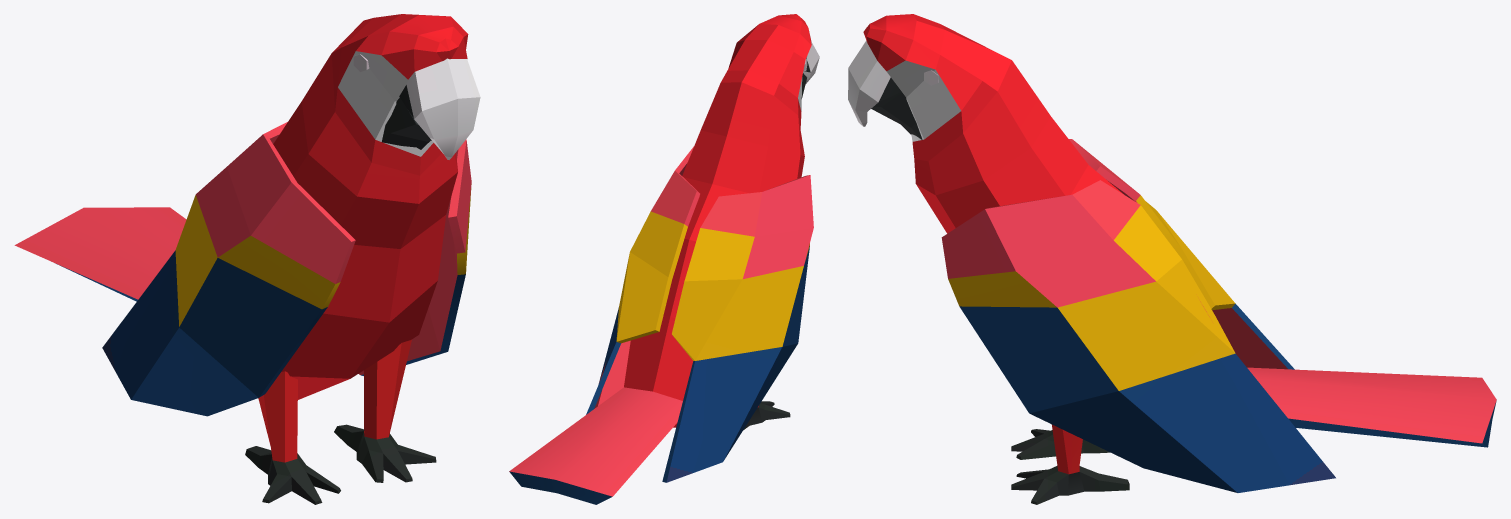
Rendered from animals-parrot-158.glb.
The picture shows the model from 3 angles, left to right: view 1: azimuth 30°, elevation 25°; view 2: azimuth 150°, elevation 25°; view 3: azimuth 270°, elevation 25°; orthographic projection. The views are drawn at different scales.
Visible parts, largest first — view 1: Geo_Parrot; view 2: Geo_Parrot; view 3: Geo_Parrot.
Boxes of the visible parts, bbox=[...] form: Geo_Parrot: bbox=[14, 14, 480, 504]; Geo_Parrot: bbox=[509, 14, 819, 504]; Geo_Parrot: bbox=[848, 14, 1496, 504].
Size of the model in its own units: 54.42 by 110 by 144.
1 material, 1 textured.
